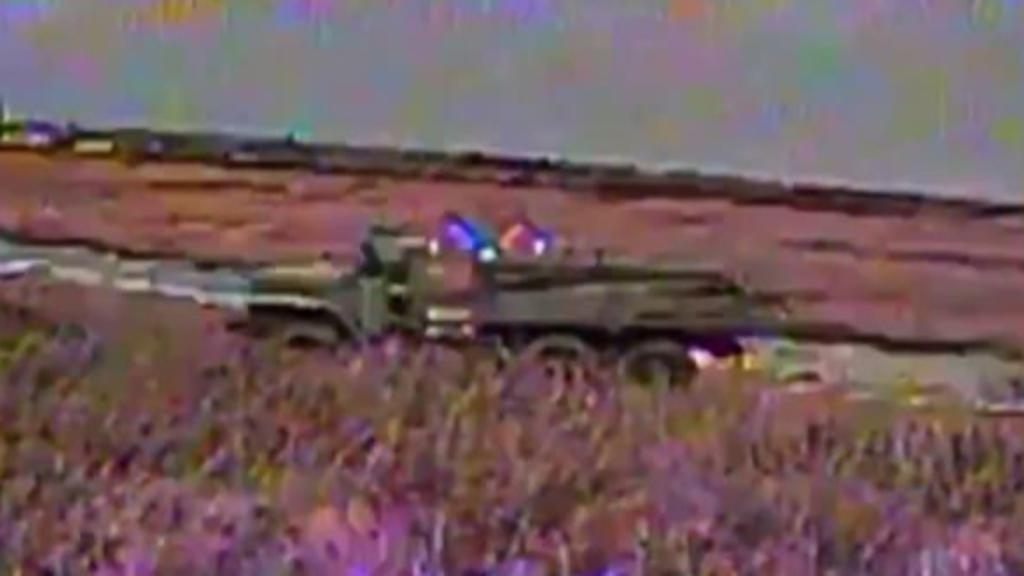TRUCK: (248, 215, 786, 399)
